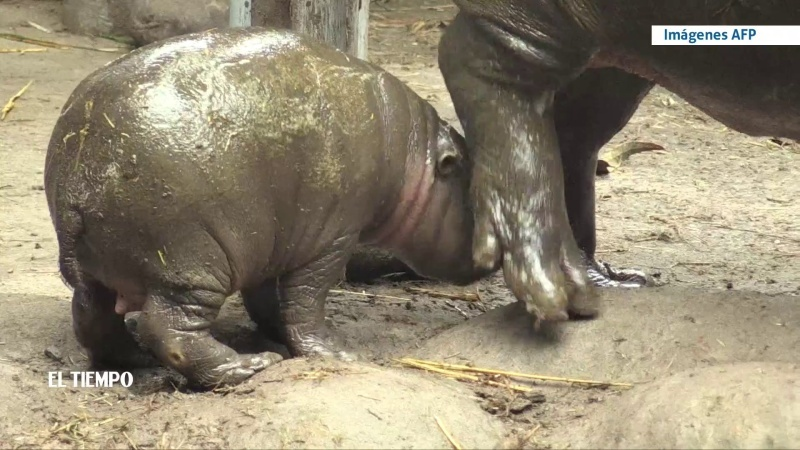hipopotamo: (32, 19, 503, 399)
